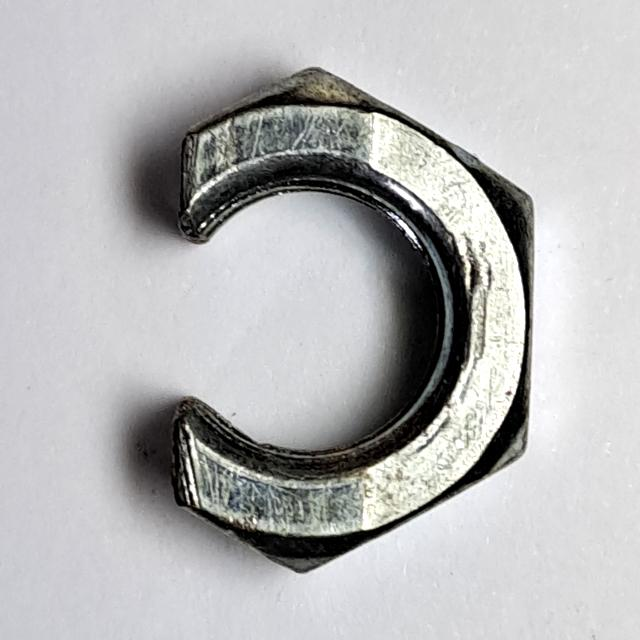Fracture: (156, 55, 549, 592)
